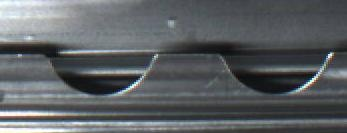twou: (56, 44, 316, 104)
